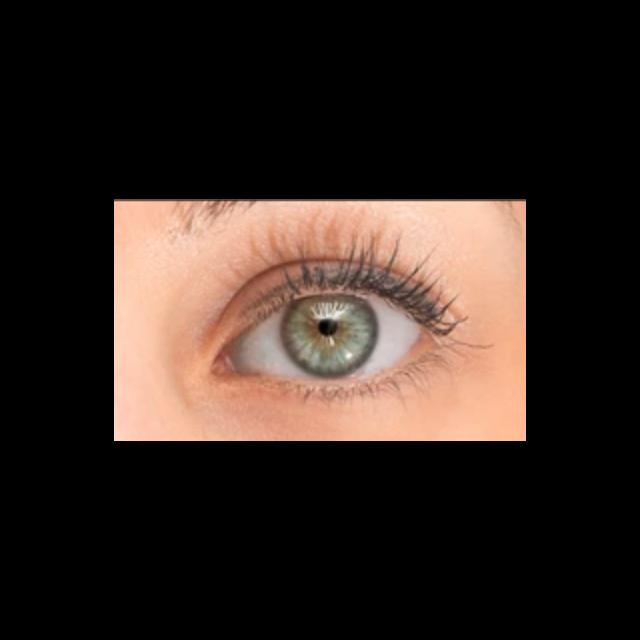eye: (237, 292, 421, 381)
iris: (284, 296, 376, 377)
